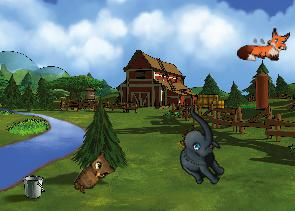elephant: (156, 105, 245, 193)
fox: (237, 26, 290, 63)
owl: (71, 148, 120, 202)
